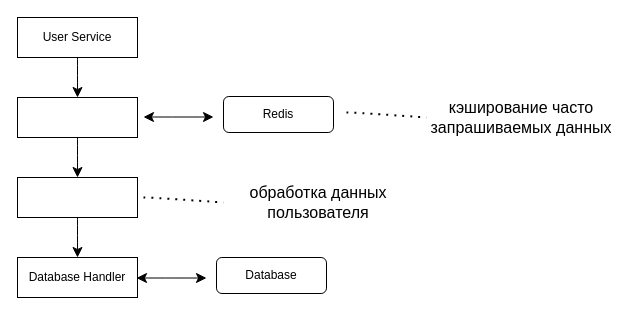
Image size: 644x315. Some labels were removed from this diagram. The centre of each missing label's shape, as x and y in pixels:
"API Gateway" belongs at [77,117].
"User Data Manager" belongs at [77,197].
